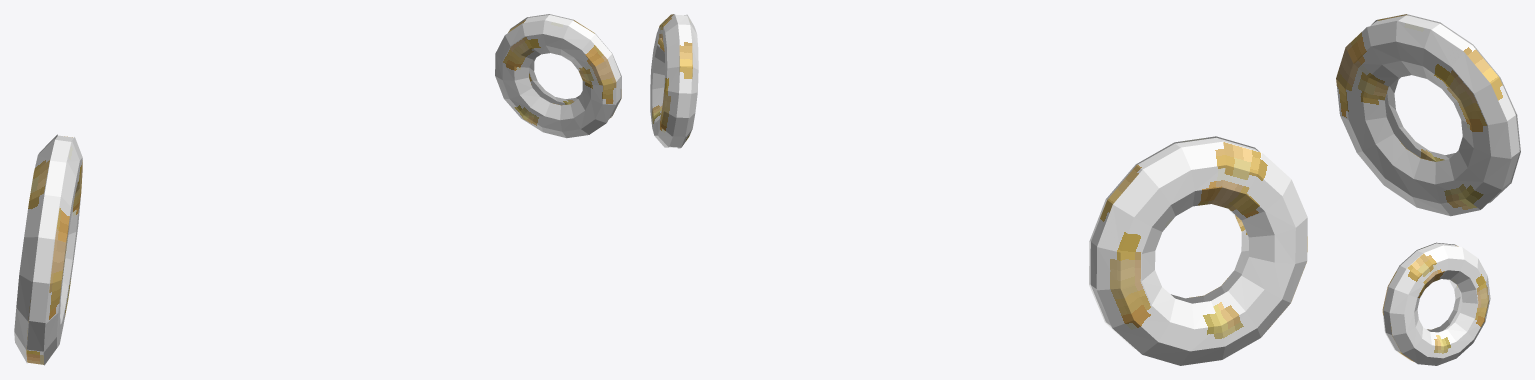
File: CharSkyKid_Horn_AP31StarryEarringStrokes.glb
3 views of the same model, side by side, from view 1: azimuth 30°, elevation 25°; view 2: azimuth 150°, elevation 25°; view 3: azimuth 270°, elevation 25° (orthographic). The views are drawn at different scales.
Parts seen in each view (by area): view 1: CharSkyKid_Horn_AP31StarryEarringStrokes; view 2: CharSkyKid_Horn_AP31StarryEarringStrokes; view 3: CharSkyKid_Horn_AP31StarryEarringStrokes.
Part boxes in pixels (x1,y1,x2,y2): CharSkyKid_Horn_AP31StarryEarringStrokes: (14,14,621,365); CharSkyKid_Horn_AP31StarryEarringStrokes: (650,14,1307,365); CharSkyKid_Horn_AP31StarryEarringStrokes: (1336,14,1520,365).
Size of the model in its own units: 2.7 by 0.8826 by 0.7527.
1 material, 1 textured.
